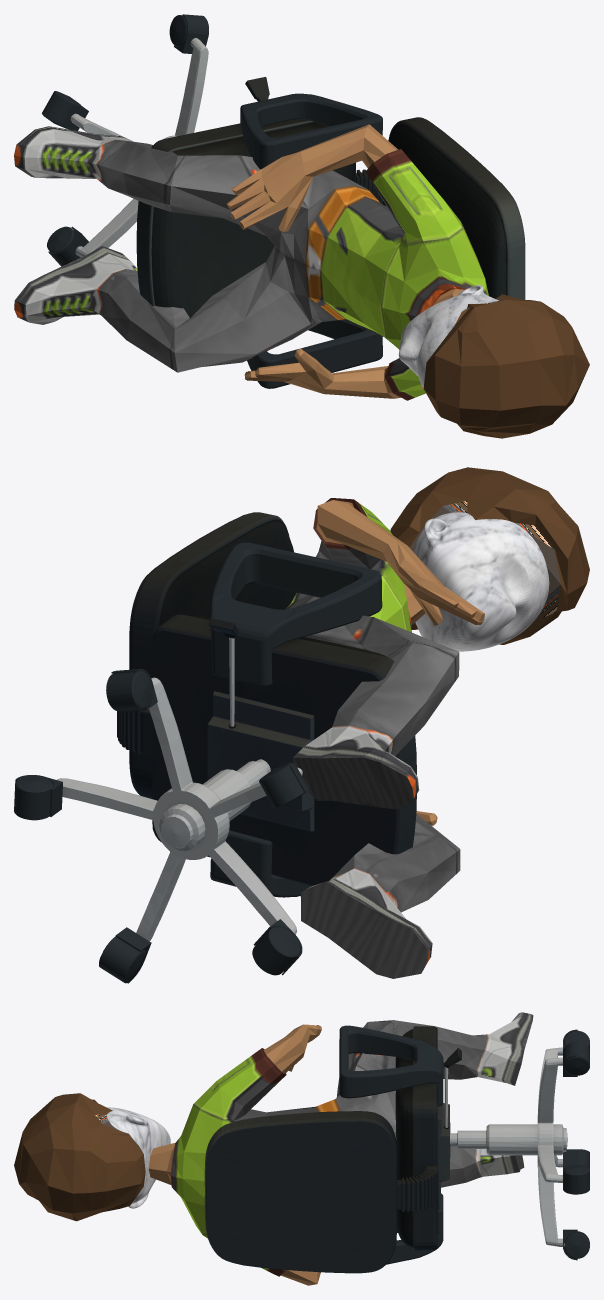
The model's file is Office Chair.obj.
The picture shows the model from 3 angles, top to bottom: view 1: azimuth 30°, elevation 25°; view 2: azimuth 150°, elevation 25°; view 3: azimuth 270°, elevation 25°; orthographic projection. The views are drawn at different scales.
Parts seen in each view (by area): view 1: Object.1, Object.3, Object.9, Object.11, Object.12, Object.2; view 2: Object.3, Object.1, Object.2, Object.9, Object.11, Object.7, Object.6, Object.5, Object.8, Object.4; view 3: Object.3, Object.1, Object.9, Object.2, Object.11, Object.10, Object.6, Object.8, Object.5, Object.12.
Part boxes in pixels (<box>): Object.1: <box>14,126,488,400</box>; Object.3: <box>43,14,525,388</box>; Object.9: <box>423,294,589,438</box>; Object.11: <box>226,124,398,231</box>; Object.12: <box>244,348,400,398</box>; Object.2: <box>398,285,498,388</box>; Object.3: <box>15,512,416,983</box>; Object.1: <box>286,498,460,978</box>; Object.2: <box>414,512,549,651</box>; Object.9: <box>390,467,589,644</box>; Object.11: <box>316,500,484,625</box>; Object.7: <box>252,926,300,975</box>; Object.6: <box>106,671,152,710</box>; Object.5: <box>14,775,53,820</box>; Object.8: <box>99,936,145,983</box>; Object.4: <box>259,762,305,808</box>; Object.3: <box>204,1025,577,1273</box>; Object.1: <box>170,1012,533,1276</box>; Object.9: <box>14,1093,145,1221</box>; Object.2: <box>107,1107,170,1208</box>; Object.11: <box>263,1024,321,1073</box>; Object.10: <box>149,1142,175,1185</box>; Object.6: <box>564,1042,589,1075</box>; Object.8: <box>564,1231,589,1258</box>; Object.5: <box>564,1165,589,1194</box>; Object.12: <box>281,1270,320,1285</box>.
Bounding box in the file's own units: 215 × 182 × 406.
Materials: 3 (3 with a texture image).
